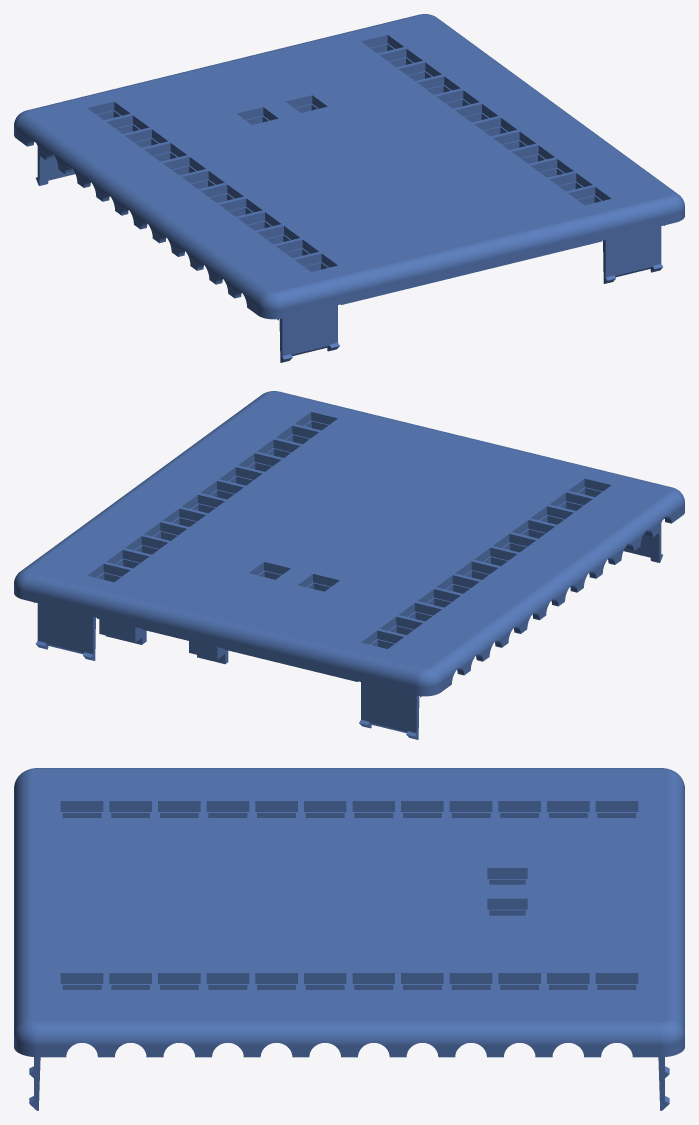
File: lid.glb
3 views of the same model, one above another, from view 1: azimuth 30°, elevation 25°; view 2: azimuth 150°, elevation 25°; view 3: azimuth 270°, elevation 25° (orthographic). The views are drawn at different scales.
Visible parts, largest first — view 1: lid; view 2: lid; view 3: lid.
Boxes of the visible parts, x1=… form: lid: x1=14, y1=14, x2=684, y2=362; lid: x1=14, y1=391, x2=684, y2=739; lid: x1=14, y1=768, x2=684, y2=1110.
Bounding box in the file's own units: 0.104 × 0.0174 × 0.1104.
